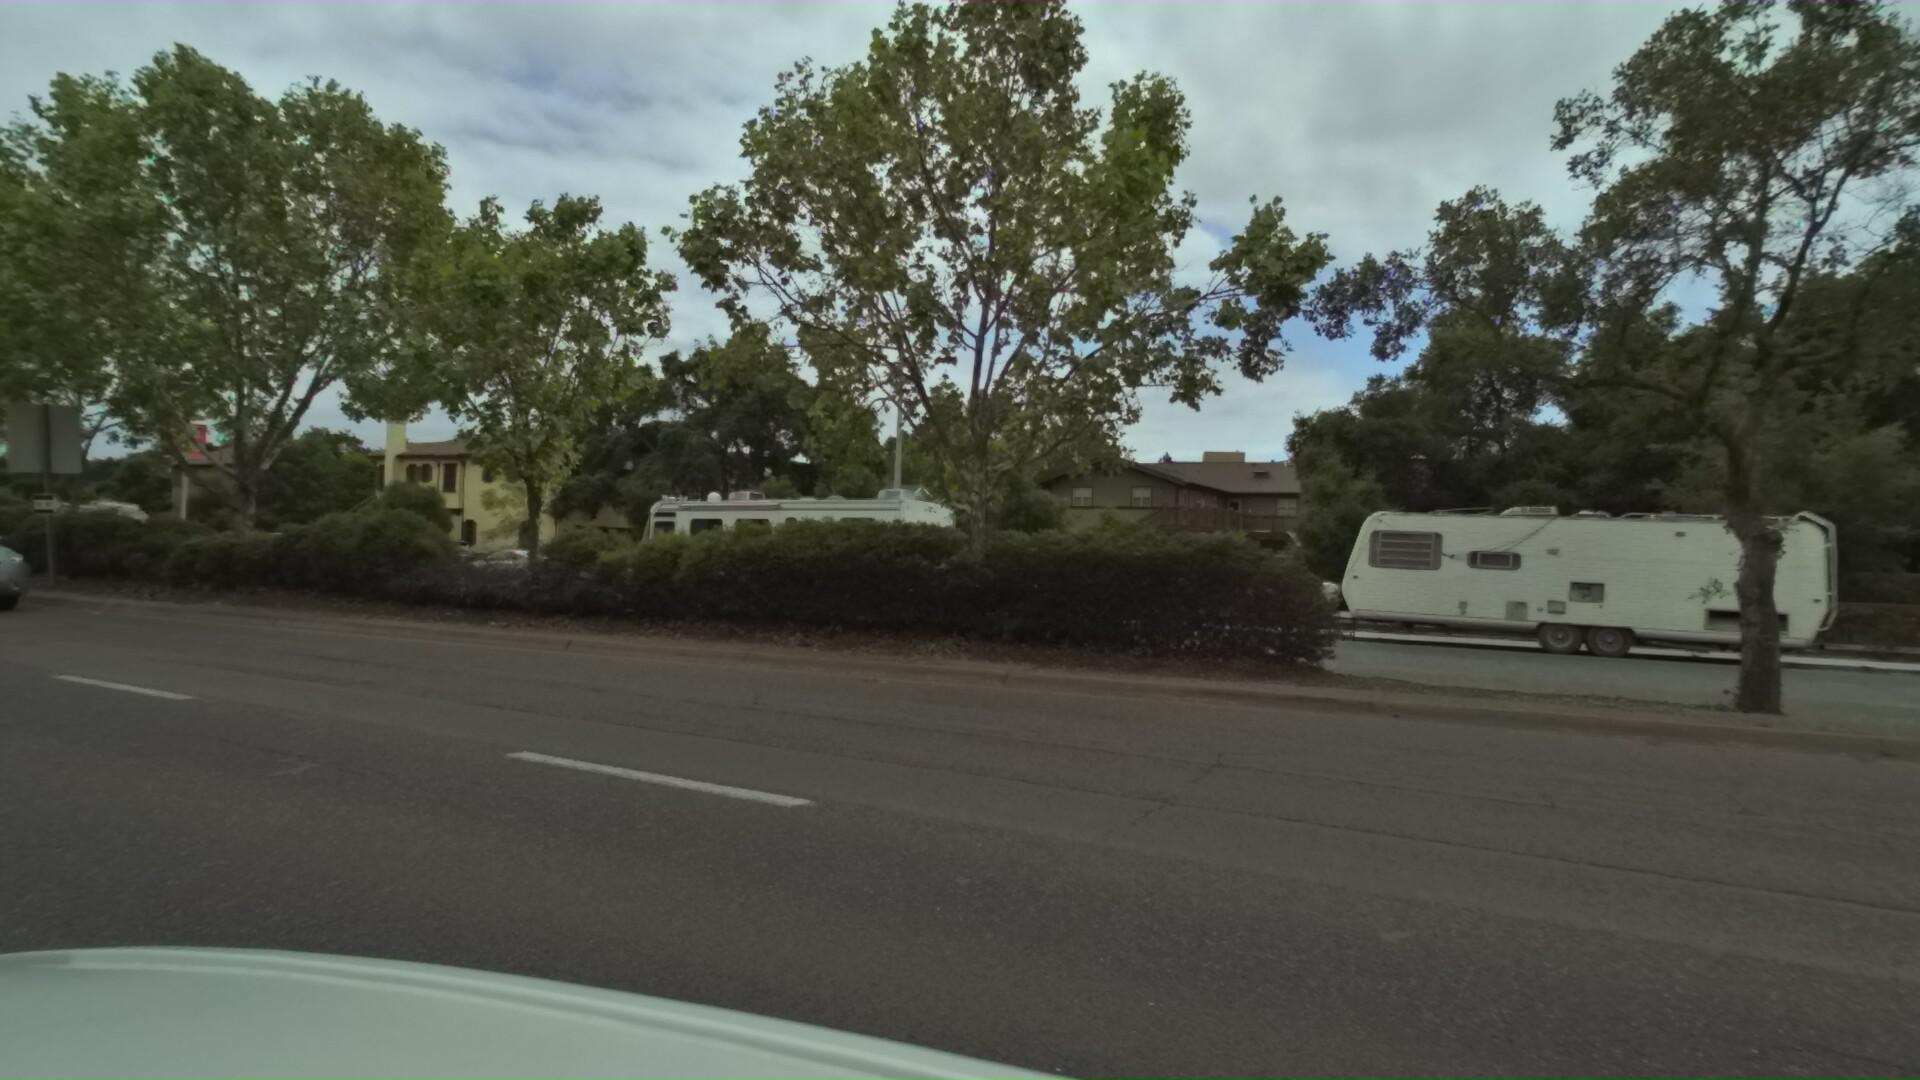car: (989, 535, 1205, 632), (1859, 568, 1920, 702), (339, 531, 477, 587), (0, 496, 54, 626)
other_vehicle: (1262, 489, 1803, 673), (604, 468, 953, 625), (24, 497, 164, 564)
